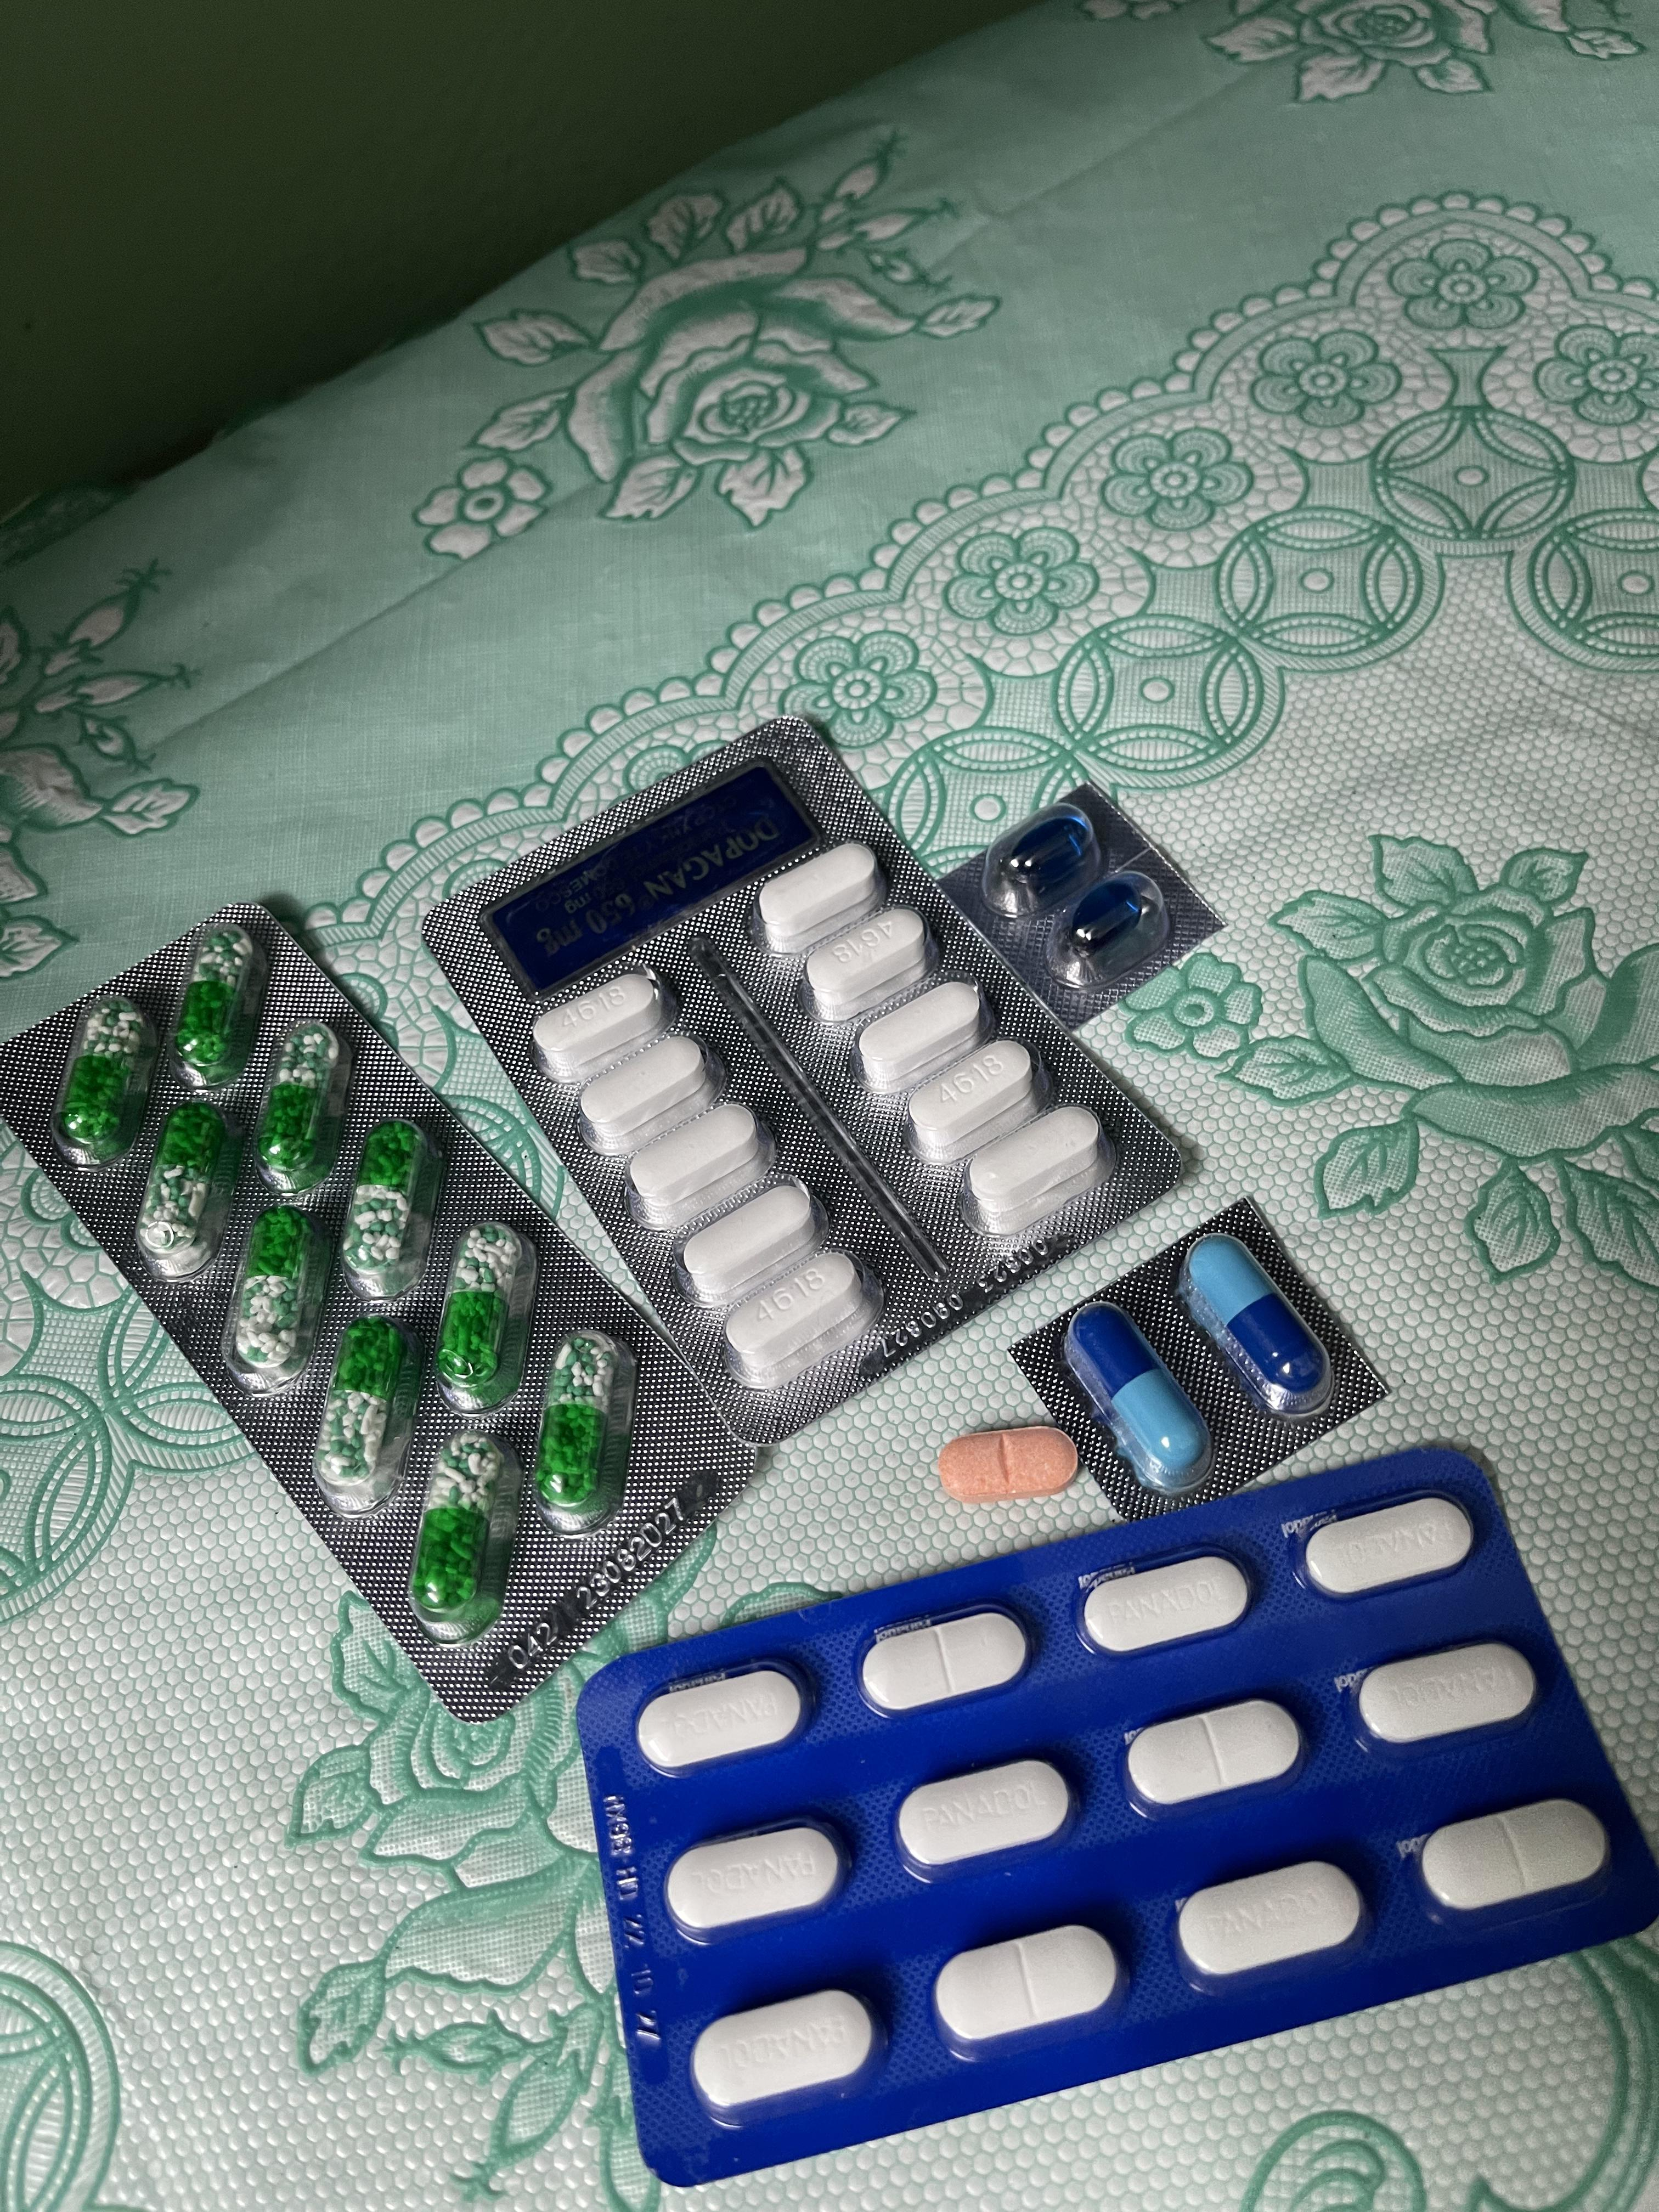Lincomyxin_500mg: (1068, 878, 1155, 960), (1006, 815, 1091, 888)
Loratadine_10mg: (938, 1426, 1079, 1503)
Paracetamol_350mg: (690, 1987, 882, 2123), (934, 1925, 1129, 2057), (1176, 1860, 1371, 1989), (1417, 1801, 1614, 1921), (664, 1818, 847, 1942), (896, 1757, 1077, 1879), (1124, 1700, 1302, 1815), (633, 1658, 805, 1775), (861, 1606, 1033, 1717), (1356, 1644, 1537, 1749), (1080, 1552, 1255, 1656), (1302, 1496, 1476, 1597)
Paracetamol_500mg: (723, 1244, 870, 1393), (969, 1104, 1108, 1238), (627, 1103, 769, 1231), (906, 1029, 1037, 1162), (681, 1186, 819, 1310), (575, 1029, 711, 1151), (802, 904, 931, 1022), (856, 982, 986, 1099), (535, 975, 669, 1087), (755, 843, 884, 956)
Paracetamol_650mg: (312, 1312, 422, 1512), (404, 1432, 516, 1623), (223, 1205, 336, 1390), (533, 1331, 634, 1524), (434, 1223, 535, 1411), (52, 995, 160, 1163), (340, 1115, 441, 1292), (254, 1019, 352, 1193), (136, 1097, 232, 1271), (173, 921, 261, 1087)
pill: (1176, 1230, 1331, 1425), (1066, 1303, 1216, 1496)
